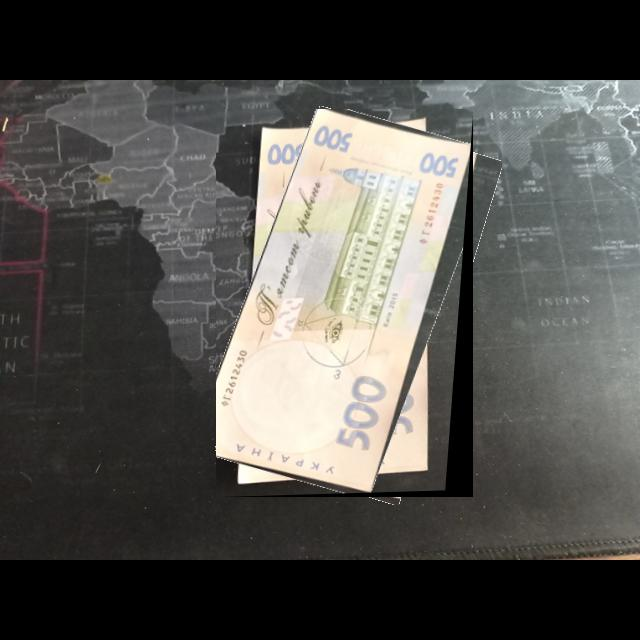500uah: (216, 109, 472, 494)
